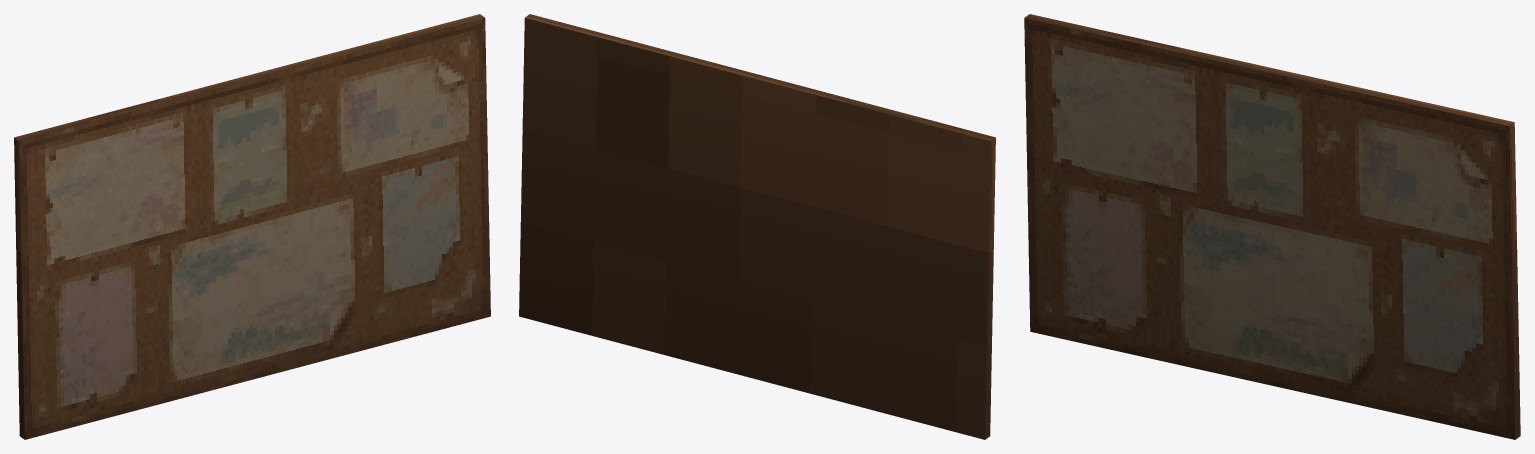
Rendered from prop_notice_board-2.glb.
3 renders of one model, left to right at view 1: azimuth 30°, elevation 25°; view 2: azimuth 150°, elevation 25°; view 3: azimuth 330°, elevation 25°, orthographic. The views are drawn at different scales.
Visible parts, largest first — view 1: prop_notice_board-2; view 2: prop_notice_board-2; view 3: prop_notice_board-2.
Part boxes in pixels (box(x1,y1,x2,y2)): prop_notice_board-2: box(14, 14, 490, 439); prop_notice_board-2: box(519, 14, 995, 439); prop_notice_board-2: box(1024, 14, 1520, 439).
Size of the model in its own units: 1.32 by 0.8258 by 0.025.
1 material, 1 textured.
